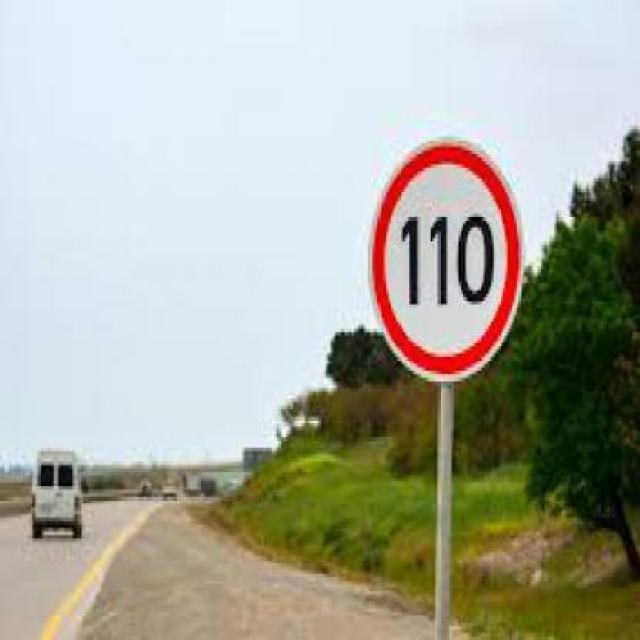speed limit 110: (368, 139, 524, 383)
